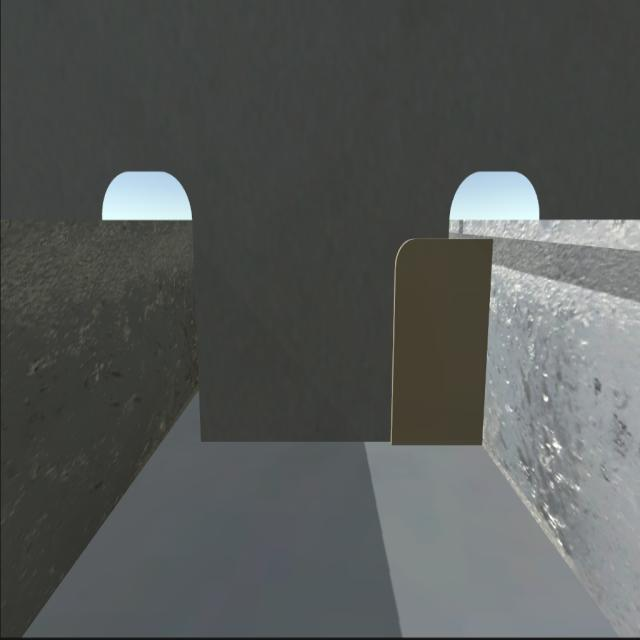fillet_yong_jeop_jang: (198, 433, 484, 452)
longi_yong_jeop_jang: (479, 232, 497, 461)
plate_CP05: (392, 238, 496, 440)
